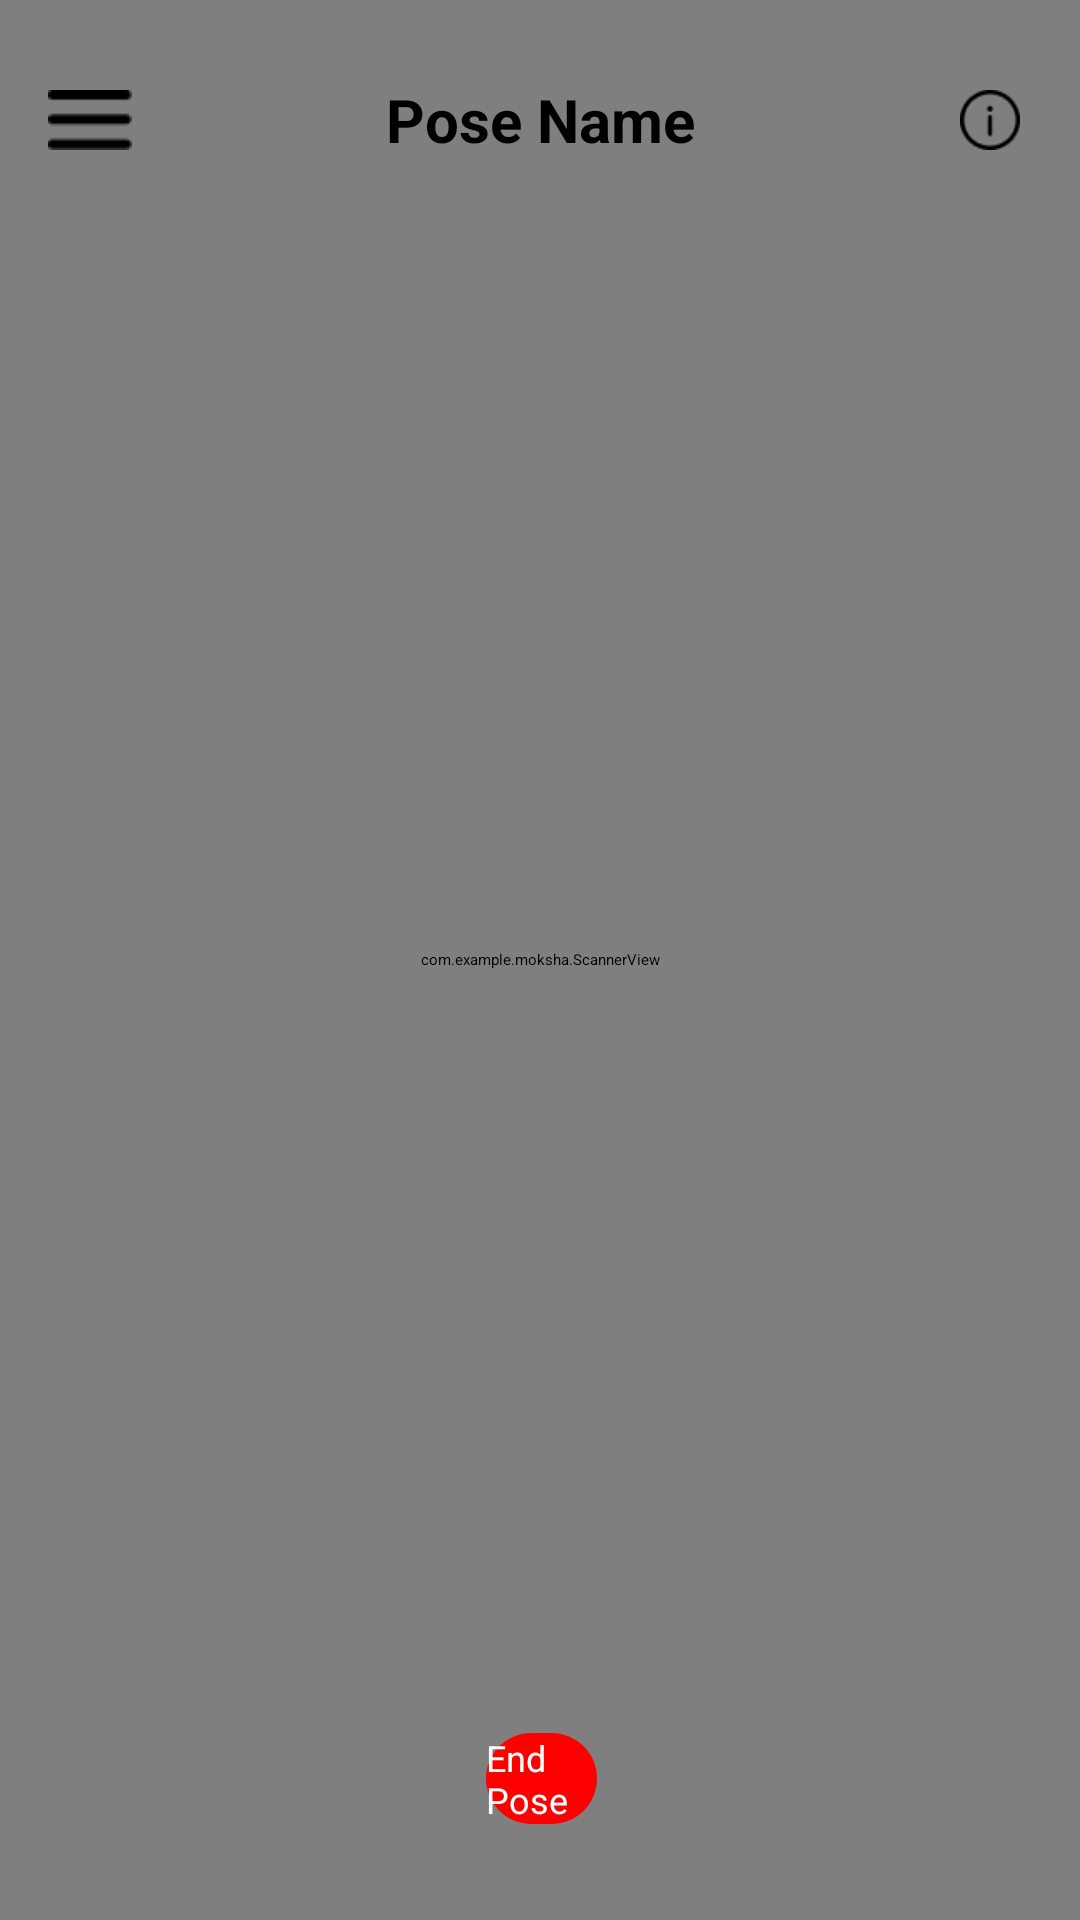

Named icons in this screenshot (1080*1920) and their bounding boxes, bbox=[x1, y1, x2, y2]:
lines: bbox=[48, 90, 132, 150]
